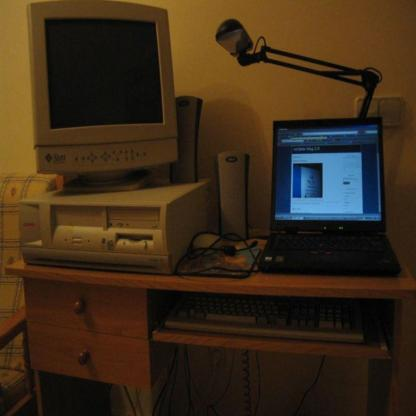board: (258, 119, 402, 278)
